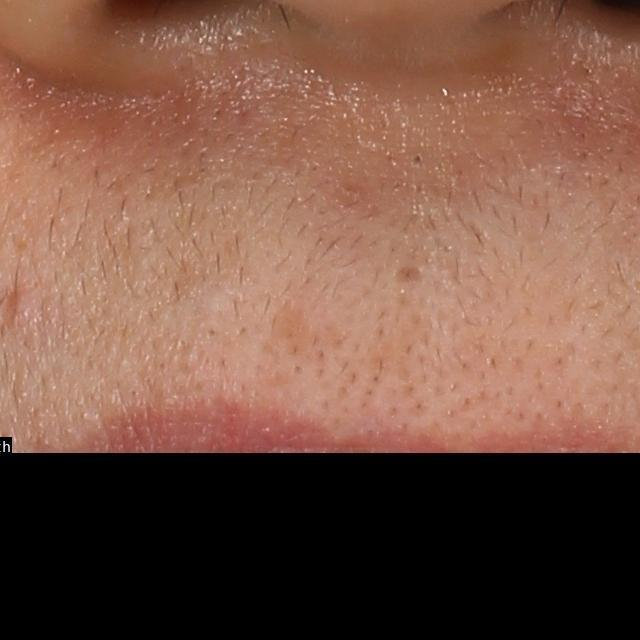atrophic_scar: (392, 264, 428, 285)
comedo: (410, 151, 427, 166)
